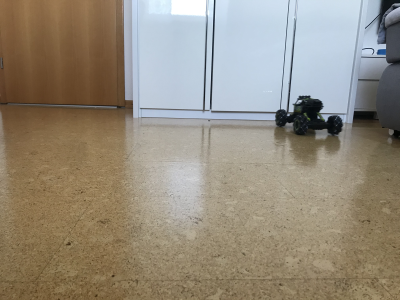remote control car: (273, 93, 344, 137)
